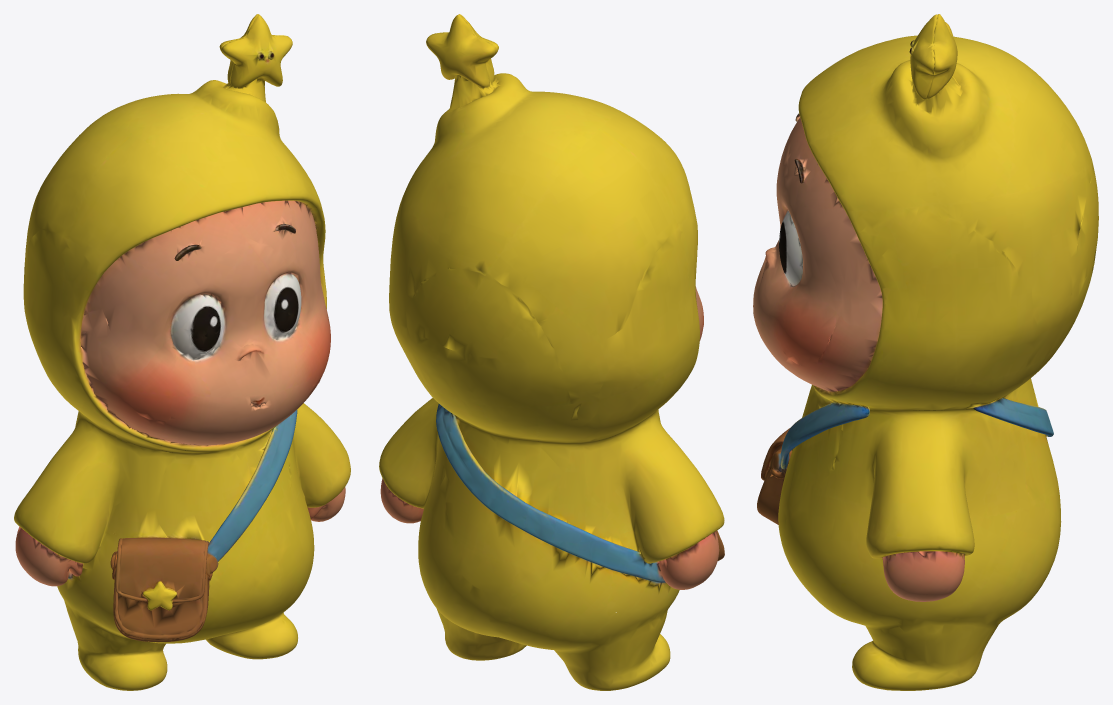
Rendered from twinkle_sv.glb.
3 renders of one model, left to right at view 1: azimuth 30°, elevation 25°; view 2: azimuth 150°, elevation 25°; view 3: azimuth 270°, elevation 25°, orthographic. The views are drawn at different scales.
Visible parts, largest first — view 1: tripo_node_6eb2c655-2fe0-4649-9bb0-40fff06fc1a7; view 2: tripo_node_6eb2c655-2fe0-4649-9bb0-40fff06fc1a7; view 3: tripo_node_6eb2c655-2fe0-4649-9bb0-40fff06fc1a7.
Part boxes in pixels (x1=…): tripo_node_6eb2c655-2fe0-4649-9bb0-40fff06fc1a7: x1=14, y1=14, x2=350, y2=690; tripo_node_6eb2c655-2fe0-4649-9bb0-40fff06fc1a7: x1=379, y1=14, x2=724, y2=690; tripo_node_6eb2c655-2fe0-4649-9bb0-40fff06fc1a7: x1=753, y1=14, x2=1098, y2=690.
Bounding box in the file's own units: 0.5307 × 0.9803 × 0.4572.
Materials: 1 (1 with a texture image).
